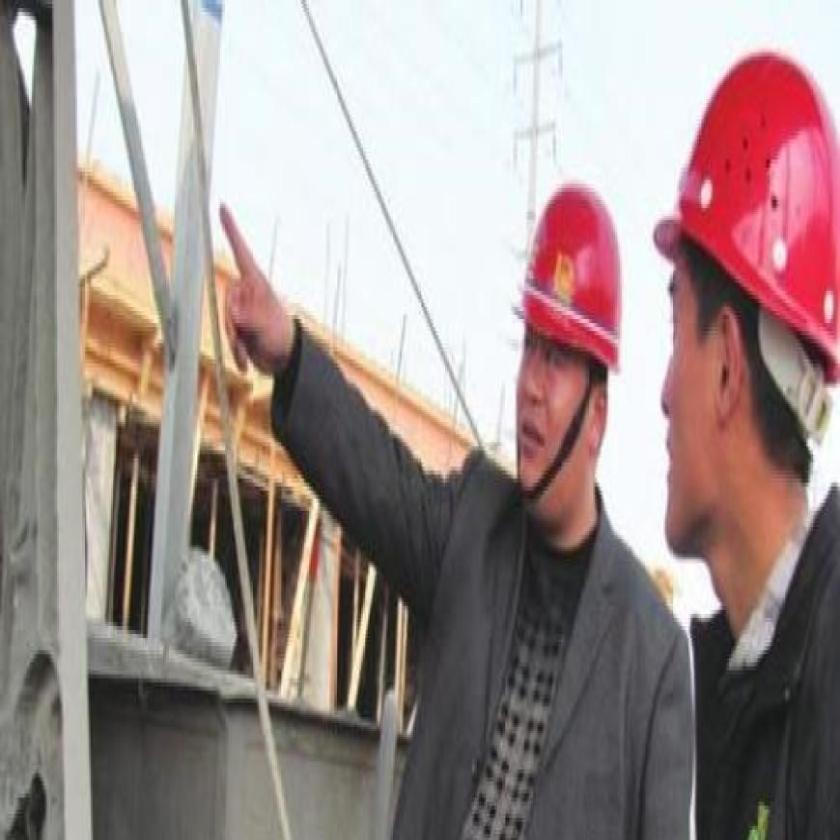Con_casco: (646, 37, 838, 622), (511, 167, 631, 564)
